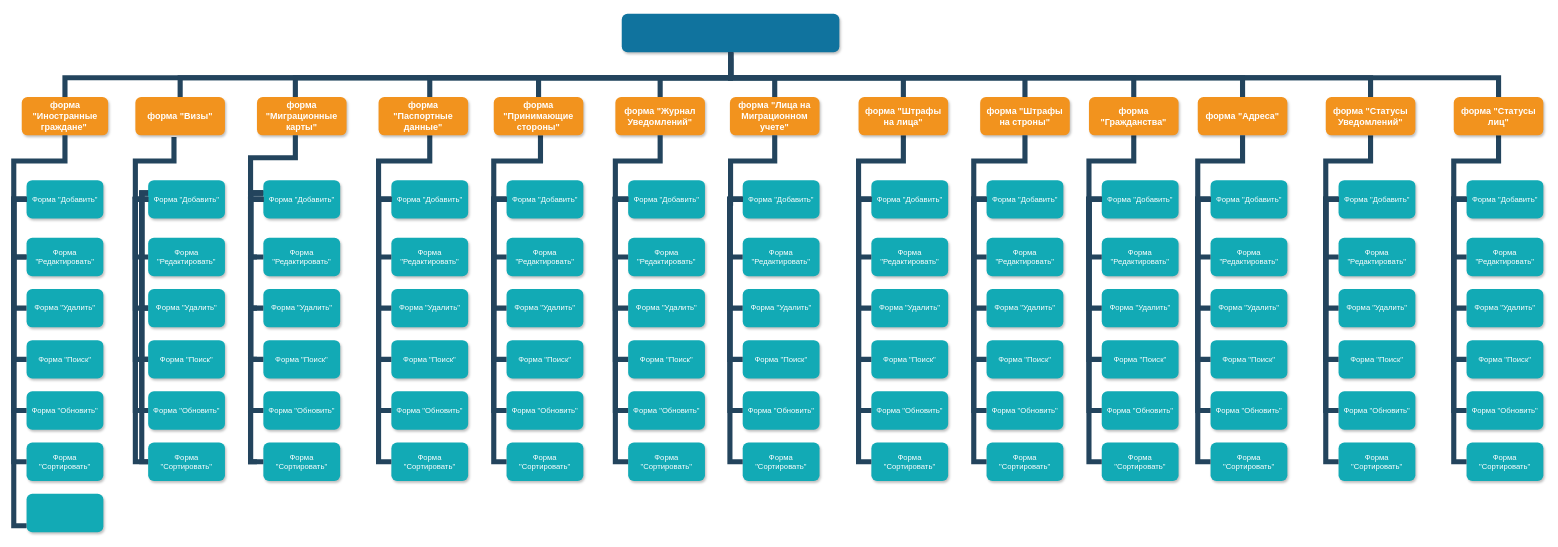
The diagram is 1558 pixels wide and 547 high, and some of its shapes have lost their labels. Each missing label, with the centre of its shape:
Главная форма "Миграционный учет": point (731, 33)
Связанная форма "Визы": point (65, 513)
